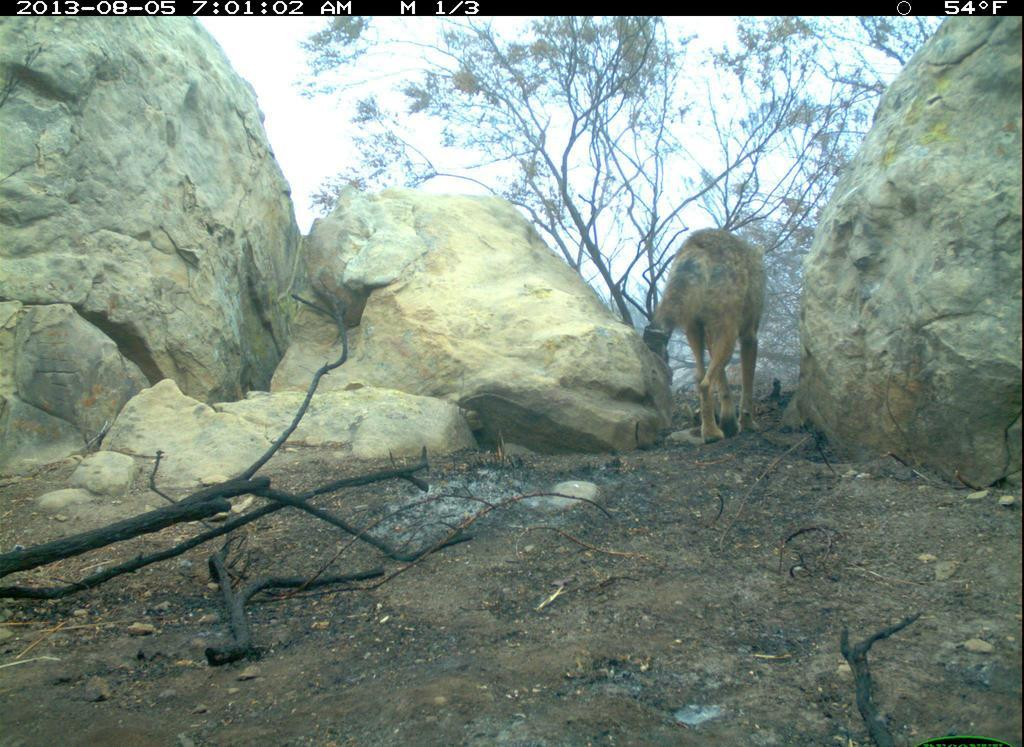coyote: (612, 219, 790, 469)
